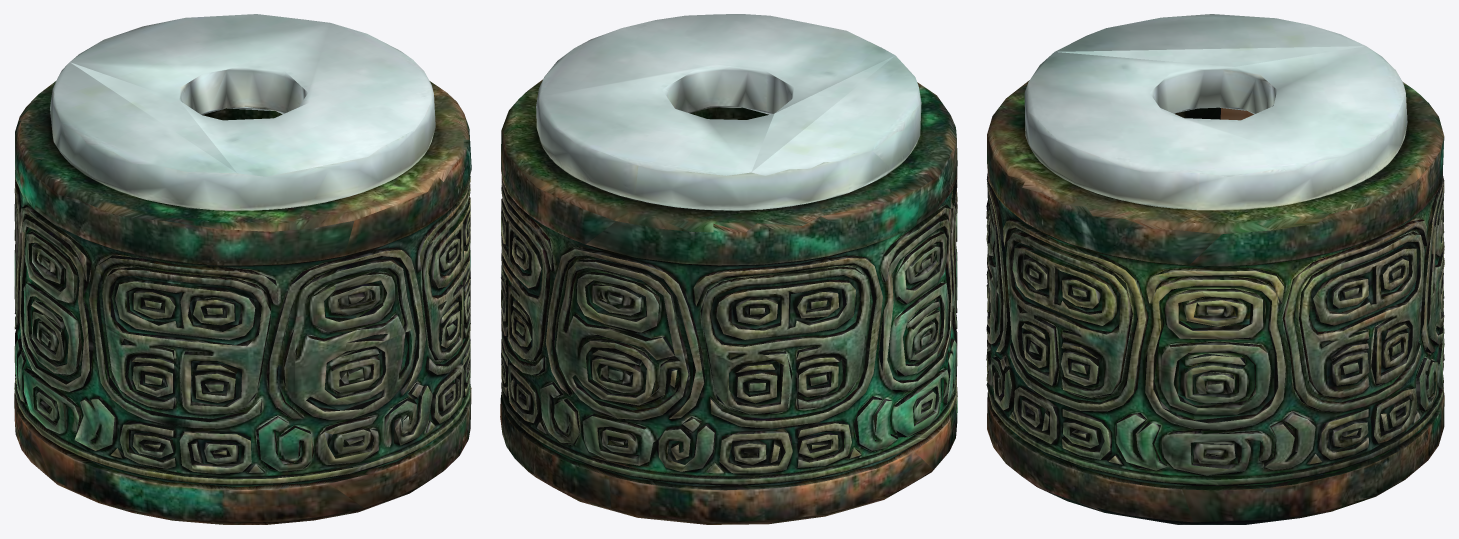
Rendered from piece_key.glb.
3 views of the same model, side by side, from view 1: azimuth 30°, elevation 25°; view 2: azimuth 150°, elevation 25°; view 3: azimuth 270°, elevation 25° (orthographic).
Visible parts, largest first — view 1: mesh; view 2: mesh; view 3: mesh.
Boxes of the visible parts, left/top/right/bottom form: mesh: left=14, top=14, right=471, bottom=524; mesh: left=500, top=14, right=957, bottom=524; mesh: left=986, top=14, right=1444, bottom=524.
Size of the model in its own units: 1.23 by 1 by 1.23.
Materials: 1 (1 with a texture image).
